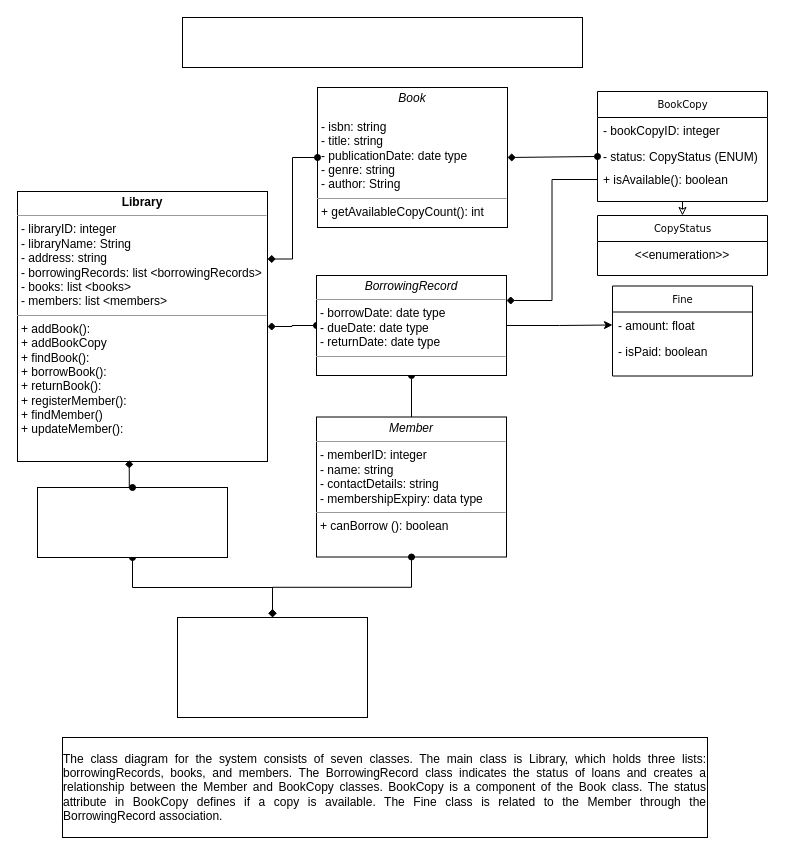
The diagram is 785 pixels wide and 855 high, and some of its shapes have lost their labels. The shapes that lost their labels are listed below. From the top down, each one's centre as x and y in pixels, then its label:
At (x=382, y=42): "Library Class Diagram".
At (x=132, y=522): "Librarian - employeeID: integer - permissions: list <String>".
At (x=272, y=667): "User - userID: integer - name: String - email: String - password: String".
